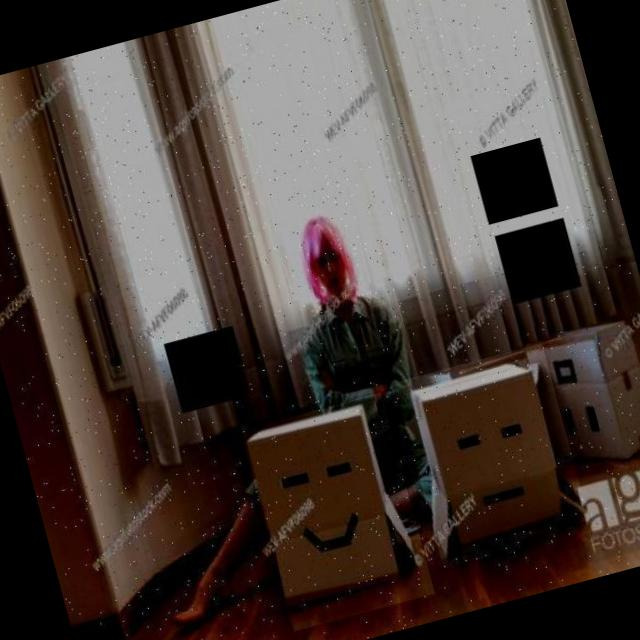box: (240, 392, 434, 631), (394, 342, 588, 558), (513, 289, 640, 484)
